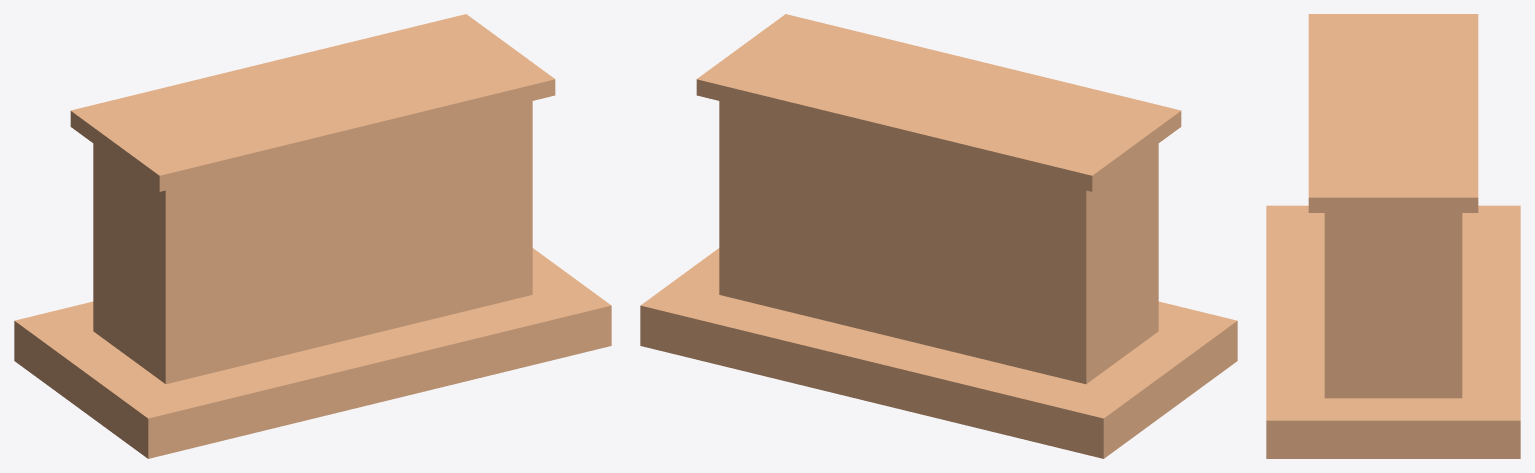
3 renders of one model, left to right at view 1: azimuth 30°, elevation 25°; view 2: azimuth 150°, elevation 25°; view 3: azimuth 270°, elevation 25°, orthographic. The views are drawn at different scales.
Parts seen in each view (by area): view 1: Bench, Platform, Top; view 2: Bench, Platform, Top; view 3: Platform, Top, Bench.
Boxes of the visible parts, x1,y1,x2,y2 form: Bench: [93, 101, 532, 384]; Platform: [14, 248, 611, 458]; Top: [70, 14, 555, 191]; Bench: [719, 101, 1158, 384]; Platform: [640, 248, 1237, 458]; Top: [696, 14, 1181, 191]; Platform: [1266, 205, 1520, 458]; Top: [1308, 14, 1478, 212]; Bench: [1324, 213, 1462, 398].
Bounding box in the file's own units: 2.4 × 1.28 × 1.2.
1 material, 1 textured.
